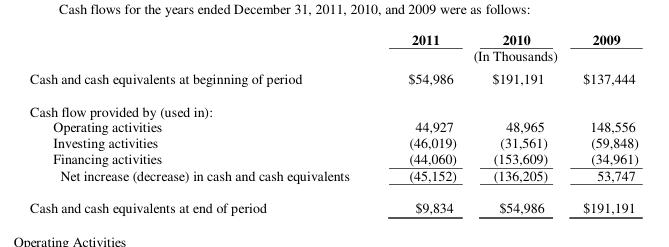table: (28, 29, 637, 216)
table column: (28, 29, 378, 216), (378, 29, 473, 216), (473, 29, 564, 216), (564, 29, 637, 216)
table column header: (28, 29, 637, 66)
table projected row header: (28, 94, 637, 118)
table row: (28, 66, 637, 94), (28, 190, 637, 216), (28, 94, 637, 118), (28, 166, 637, 190), (28, 46, 637, 66), (28, 29, 637, 46), (28, 149, 637, 166), (28, 133, 637, 149), (28, 118, 637, 133)
table spanning cell: (378, 46, 637, 66)
